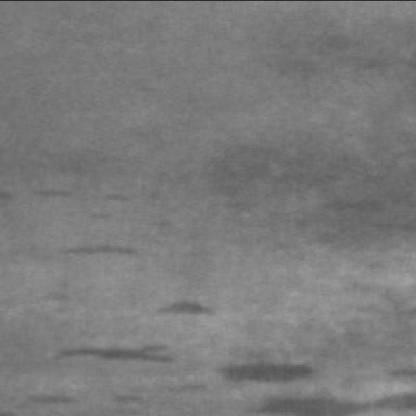inclusion: (272, 29, 404, 85), (276, 183, 410, 237), (20, 179, 142, 225), (210, 347, 337, 387), (110, 362, 212, 408), (54, 332, 181, 368), (54, 231, 144, 264), (156, 285, 220, 320), (19, 380, 92, 410)
